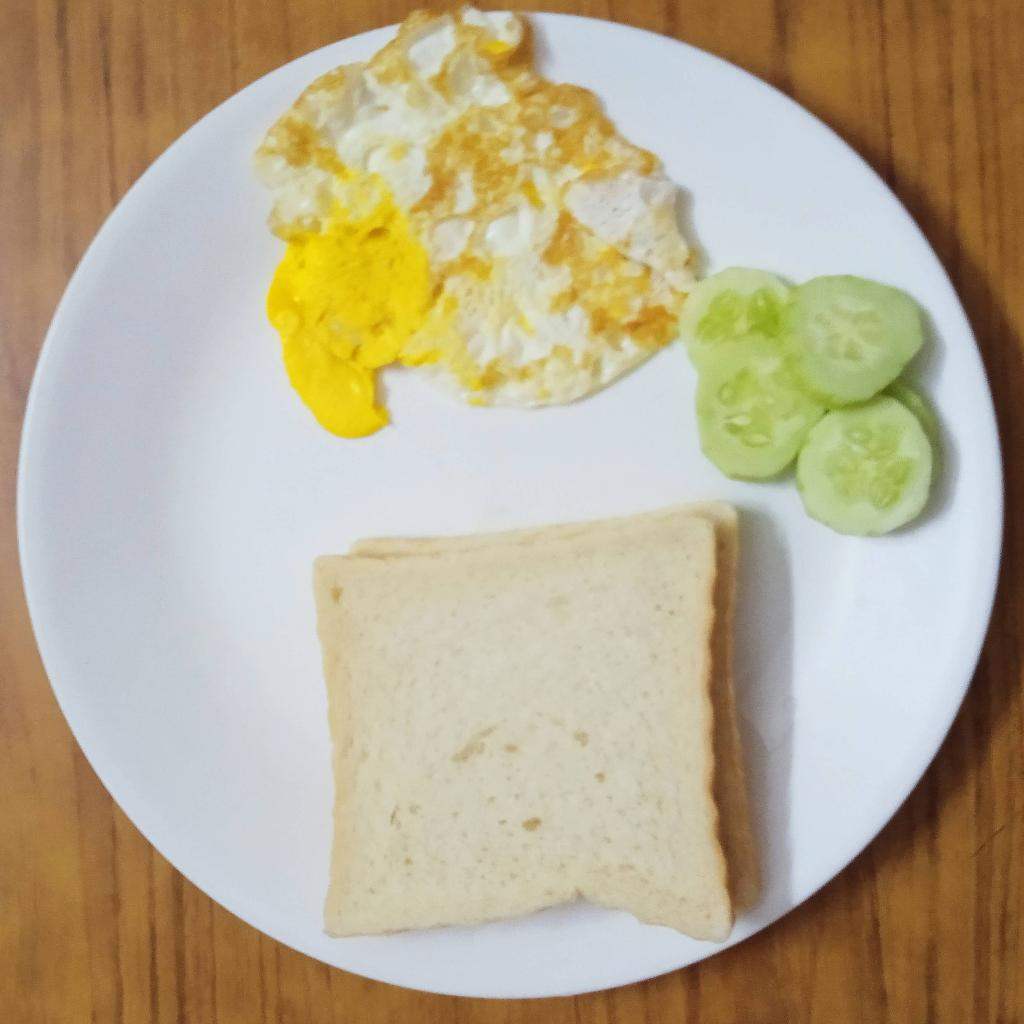bread: (313, 502, 758, 940)
cucumber: (685, 263, 940, 531)
egg-poached: (261, 6, 693, 443)
